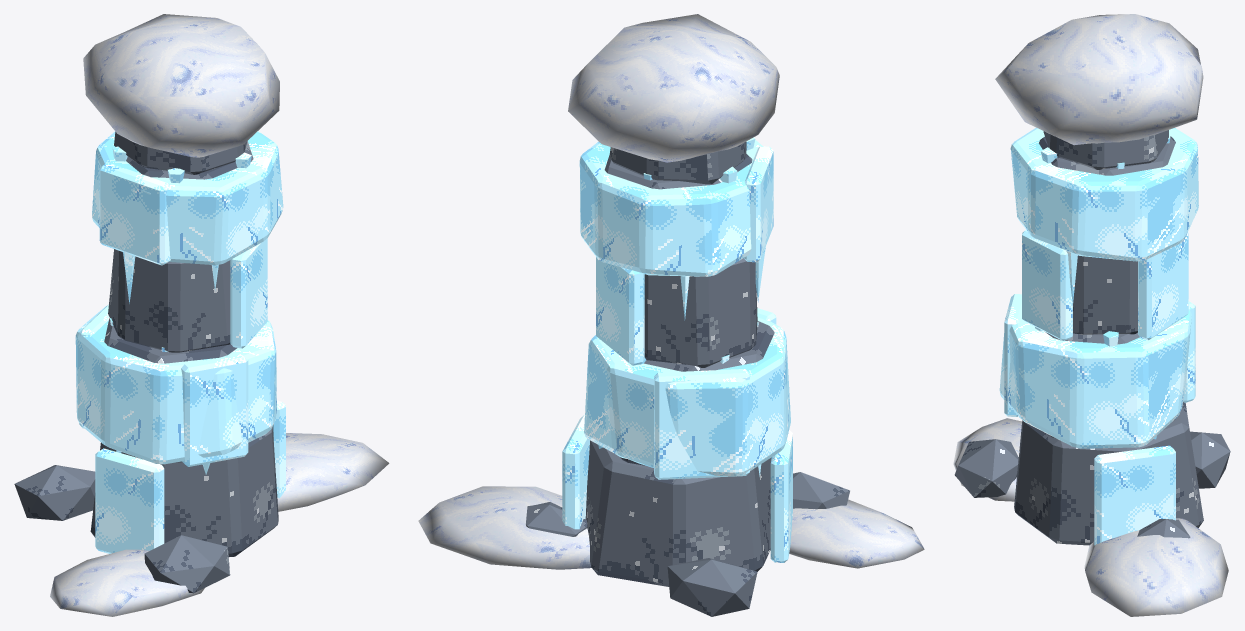
File: glacier_pillar.glb
The picture shows the model from 3 angles, left to right: view 1: azimuth 30°, elevation 25°; view 2: azimuth 150°, elevation 25°; view 3: azimuth 270°, elevation 25°; orthographic projection. The views are drawn at different scales.
Parts seen in each view (by area): view 1: Snow, Pillar, IceCollars, IceSheets, Icicles; view 2: Pillar, Snow, IceCollars, IceSheets, Icicles; view 3: IceCollars, Snow, Pillar, IceSheets, Icicles.
Part boxes in pixels (x1=…): Snow: x1=50, y1=14, x2=389, y2=616; Pillar: x1=14, y1=132, x2=278, y2=593; IceCollars: x1=75, y1=131, x2=283, y2=464; IceSheets: x1=79, y1=162, x2=285, y2=553; Icicles: x1=110, y1=146, x2=251, y2=474; Pillar: x1=526, y1=142, x2=849, y2=616; Snow: x1=418, y1=14, x2=924, y2=569; IceCollars: x1=579, y1=140, x2=790, y2=476; IceSheets: x1=562, y1=146, x2=792, y2=562; Icicles: x1=598, y1=137, x2=766, y2=476; IceCollars: x1=999, y1=127, x2=1198, y2=448; Snow: x1=953, y1=14, x2=1228, y2=616; Pillar: x1=954, y1=130, x2=1230, y2=545; IceSheets: x1=1004, y1=230, x2=1195, y2=545; Icicles: x1=1035, y1=135, x2=1170, y2=439.
Size of the model in its own units: 5.97 by 7.12 by 3.68.
3 materials, 3 textured.
